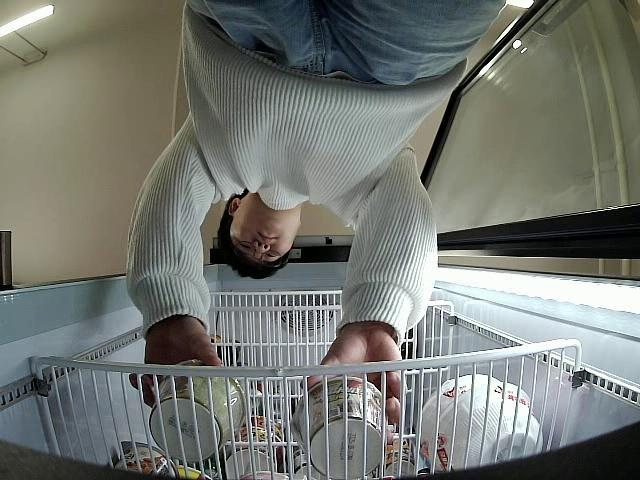04_chapagetti_S: (150, 360, 247, 462), (291, 378, 388, 480)
